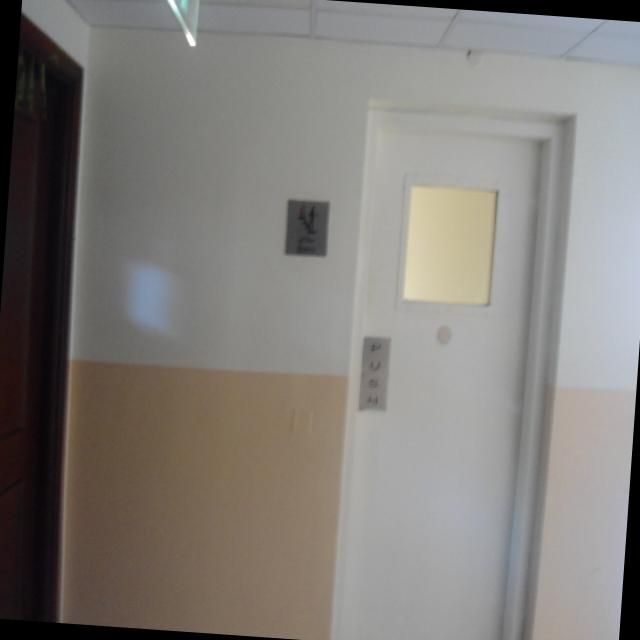door: (322, 90, 581, 640), (0, 17, 102, 622)
wall: (56, 29, 640, 640)
